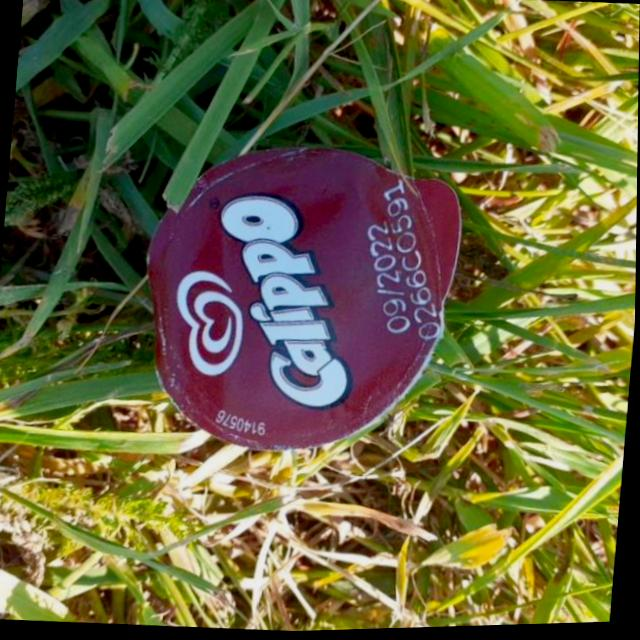Paper: (124, 125, 473, 471)
